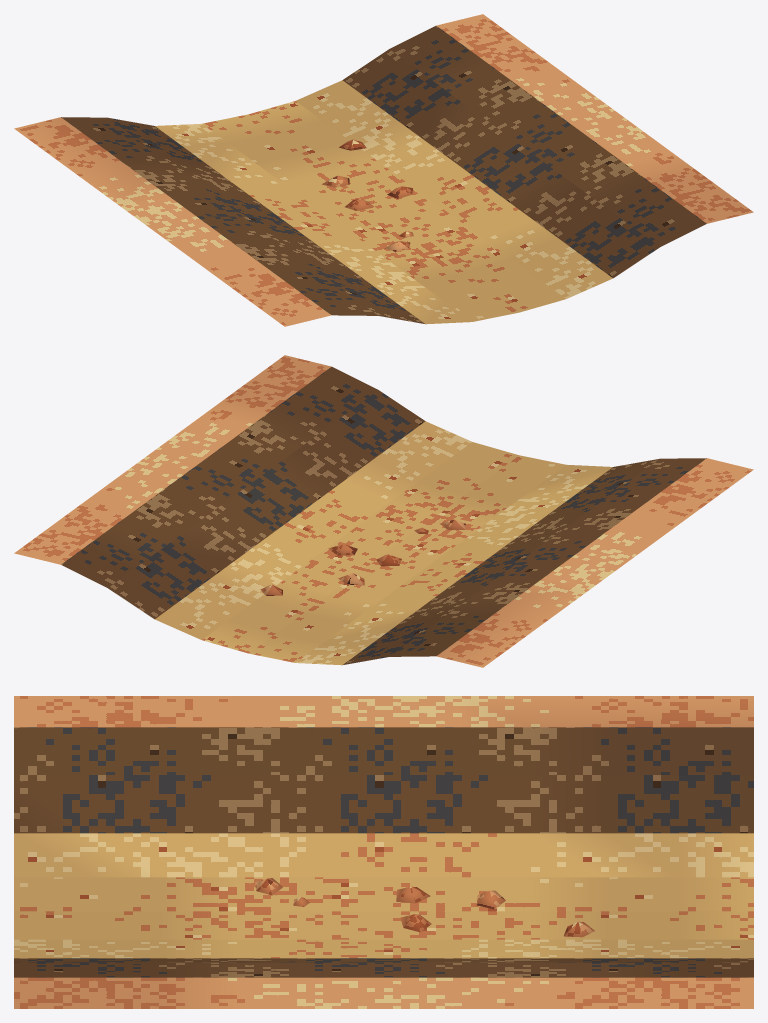
File: wland.riverbed.glb
3 renders of one model, top to bottom at view 1: azimuth 30°, elevation 25°; view 2: azimuth 150°, elevation 25°; view 3: azimuth 270°, elevation 25°, orthographic. The views are drawn at different scales.
Parts seen in each view (by area): view 1: kit_shell_ground, kit_stones; view 2: kit_shell_ground, kit_stones; view 3: kit_shell_ground, kit_stones.
Boxes of the visible parts, x1,y1,x2,y2 form: kit_shell_ground: [14, 14, 753, 326]; kit_stones: [321, 139, 413, 251]; kit_shell_ground: [14, 355, 753, 667]; kit_stones: [260, 519, 465, 595]; kit_shell_ground: [14, 696, 753, 1008]; kit_stones: [255, 878, 594, 937].
Bounding box in the file's own units: 8 × 0.7 × 8.
Materials: 4 (4 with a texture image).
